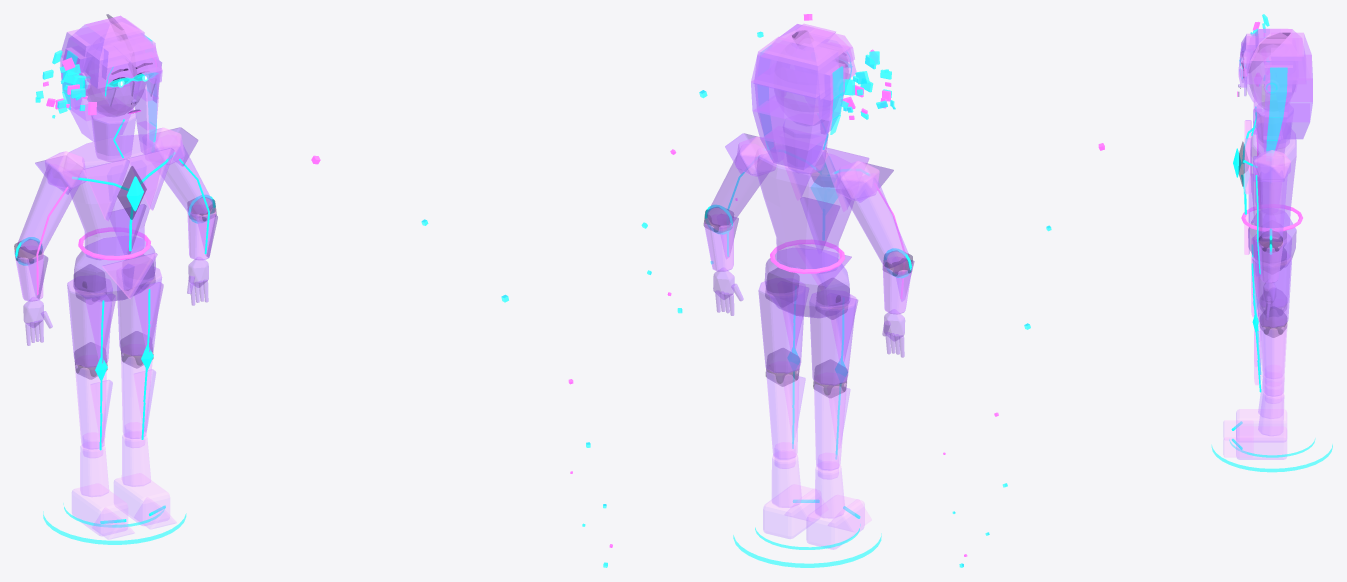
The model's file is EVA_v5.glb.
3 renders of one model, left to right at view 1: azimuth 30°, elevation 25°; view 2: azimuth 150°, elevation 25°; view 3: azimuth 270°, elevation 25°, orthographic. The views are drawn at different scales.
Visible parts, largest first — view 1: EVA_Torso, EVA_Pelvis, EVA_Thigh_L, EVA_UpperArm_L, EVA_Thigh_R, EVA_Head, EVA_Boot_L, EVA_Boot_R, EVA_Shin_R, EVA_UpperArm_R, EVA_Shin_L, EVA_HairCrown_01 (+22 smaller); view 2: EVA_Torso, EVA_Pelvis, EVA_HairBack_00, EVA_Thigh_R, EVA_Thigh_L, EVA_UpperArm_L, EVA_HairBack_02, EVA_Shin_R, EVA_Shin_L, EVA_UpperArm_R, EVA_HairBack_01, EVA_HairCrown_01 (+41 smaller); view 3: EVA_Torso, EVA_Thigh_R, EVA_UpperArm_R, EVA_Shin_R, EVA_Boot_R, EVA_HairCrown_01, EVA_HairBack_00, EVA_Boot_L, EVA_HairCrown_00, EVA_Pelvis, EVA_Shin_L, EVA_Shoulder_R.001 (+17 smaller).
Boxes of the visible parts, x1,y1,x2,y2 form: EVA_Torso: (64,134,163,259); EVA_Pelvis: (73,237,155,301); EVA_Thigh_L: (67,278,112,367); EVA_UpperArm_L: (17,164,80,255); EVA_Thigh_R: (117,267,161,355); EVA_Head: (85,35,145,117); EVA_Boot_L: (72,484,127,536); EVA_Boot_R: (114,473,169,525); EVA_Shin_R: (121,351,153,439); EVA_UpperArm_R: (160,135,212,217); EVA_Shin_L: (74,362,106,449); EVA_HairCrown_01: (69,16,155,60); EVA_Torso: (755,147,857,273); EVA_Pelvis: (764,248,850,317); EVA_HairBack_00: (751,36,838,97); EVA_Thigh_R: (758,281,805,373); EVA_Thigh_L: (809,293,856,385); EVA_UpperArm_L: (843,173,909,267); EVA_HairBack_02: (752,97,830,150); EVA_Shin_R: (766,369,799,459); EVA_Shin_L: (814,380,847,470); EVA_UpperArm_R: (707,144,768,227); EVA_HairBack_01: (751,79,832,125); EVA_HairCrown_01: (761,24,849,70); EVA_Torso: (1250,123,1296,227); EVA_Thigh_R: (1252,253,1291,327); EVA_UpperArm_R: (1257,166,1287,241); EVA_Shin_R: (1259,323,1287,396); EVA_Boot_R: (1236,426,1286,459); EVA_HairCrown_01: (1250,29,1301,60); EVA_HairBack_00: (1271,32,1311,80); EVA_Boot_L: (1236,409,1286,441); EVA_HairCrown_00: (1246,41,1305,84); EVA_Pelvis: (1248,212,1296,267); EVA_Shin_L: (1260,305,1286,378); EVA_Shoulder_R.001: (1253,150,1290,182).
Size of the model in its own units: 6.27 by 6.96 by 5.91.
